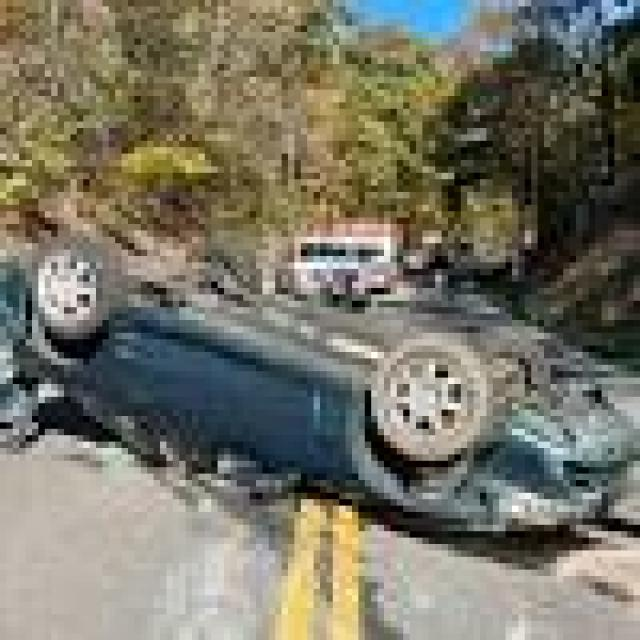accident: (4, 220, 628, 554)
